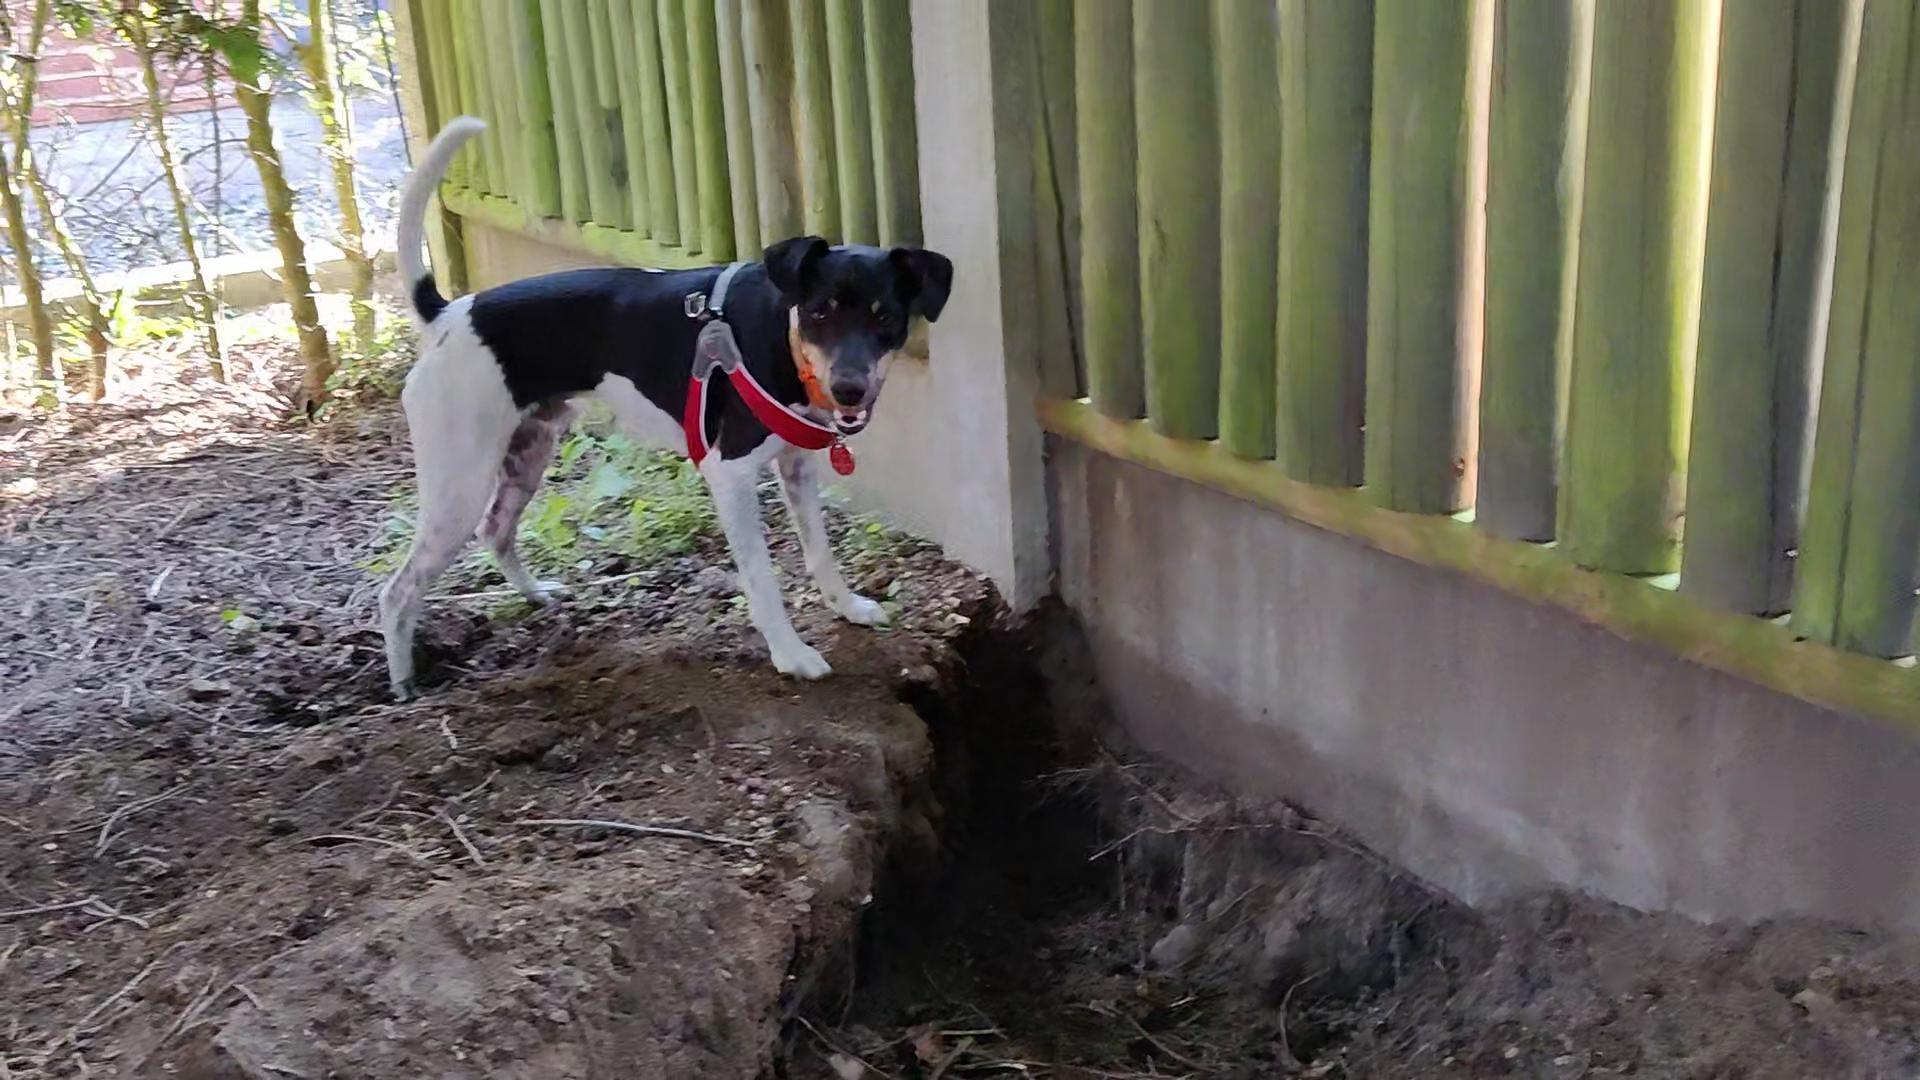Dog: (342, 98, 965, 731)
